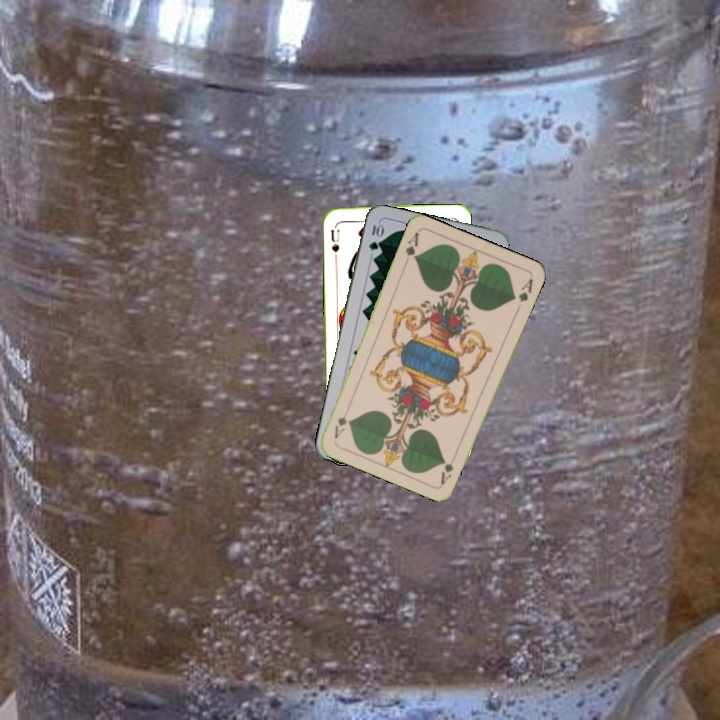G10: (365, 219, 385, 253)
GA: (437, 448, 460, 487), (401, 228, 421, 268)
SU: (327, 226, 342, 255)
